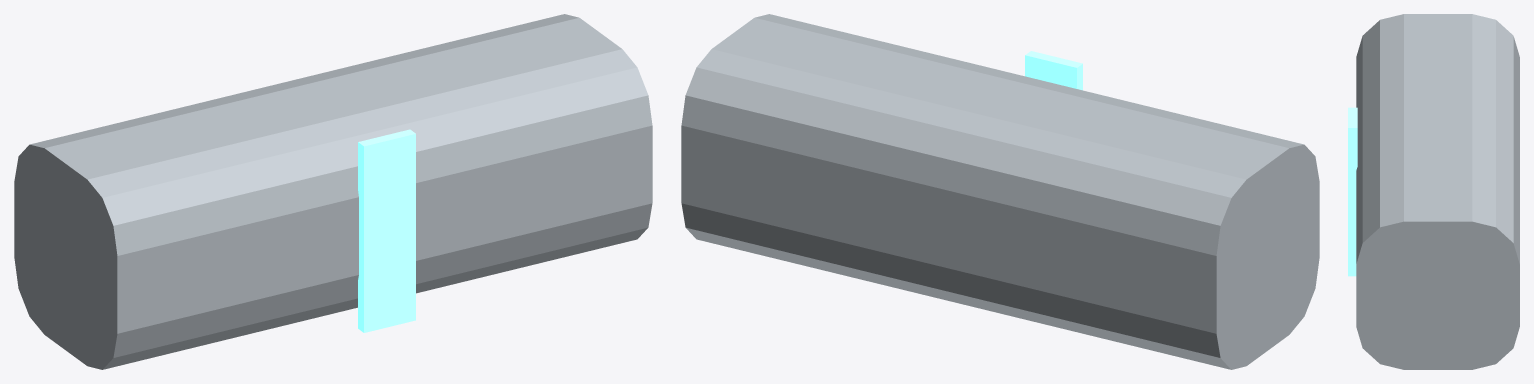
File: Door_LeafFolded.gltf
The picture shows the model from 3 angles, left to right: view 1: azimuth 30°, elevation 25°; view 2: azimuth 150°, elevation 25°; view 3: azimuth 270°, elevation 25°; orthographic projection. The views are drawn at different scales.
Visible parts, largest first — view 1: Door_LeafFolded_baked; view 2: Door_LeafFolded_baked; view 3: Door_LeafFolded_baked.
Boxes of the visible parts, bbox=[...] form: Door_LeafFolded_baked: bbox=[14, 14, 652, 369]; Door_LeafFolded_baked: bbox=[681, 14, 1319, 369]; Door_LeafFolded_baked: bbox=[1348, 14, 1519, 369].
Size of the model in its own units: 0.72 by 0.24 by 0.252.
